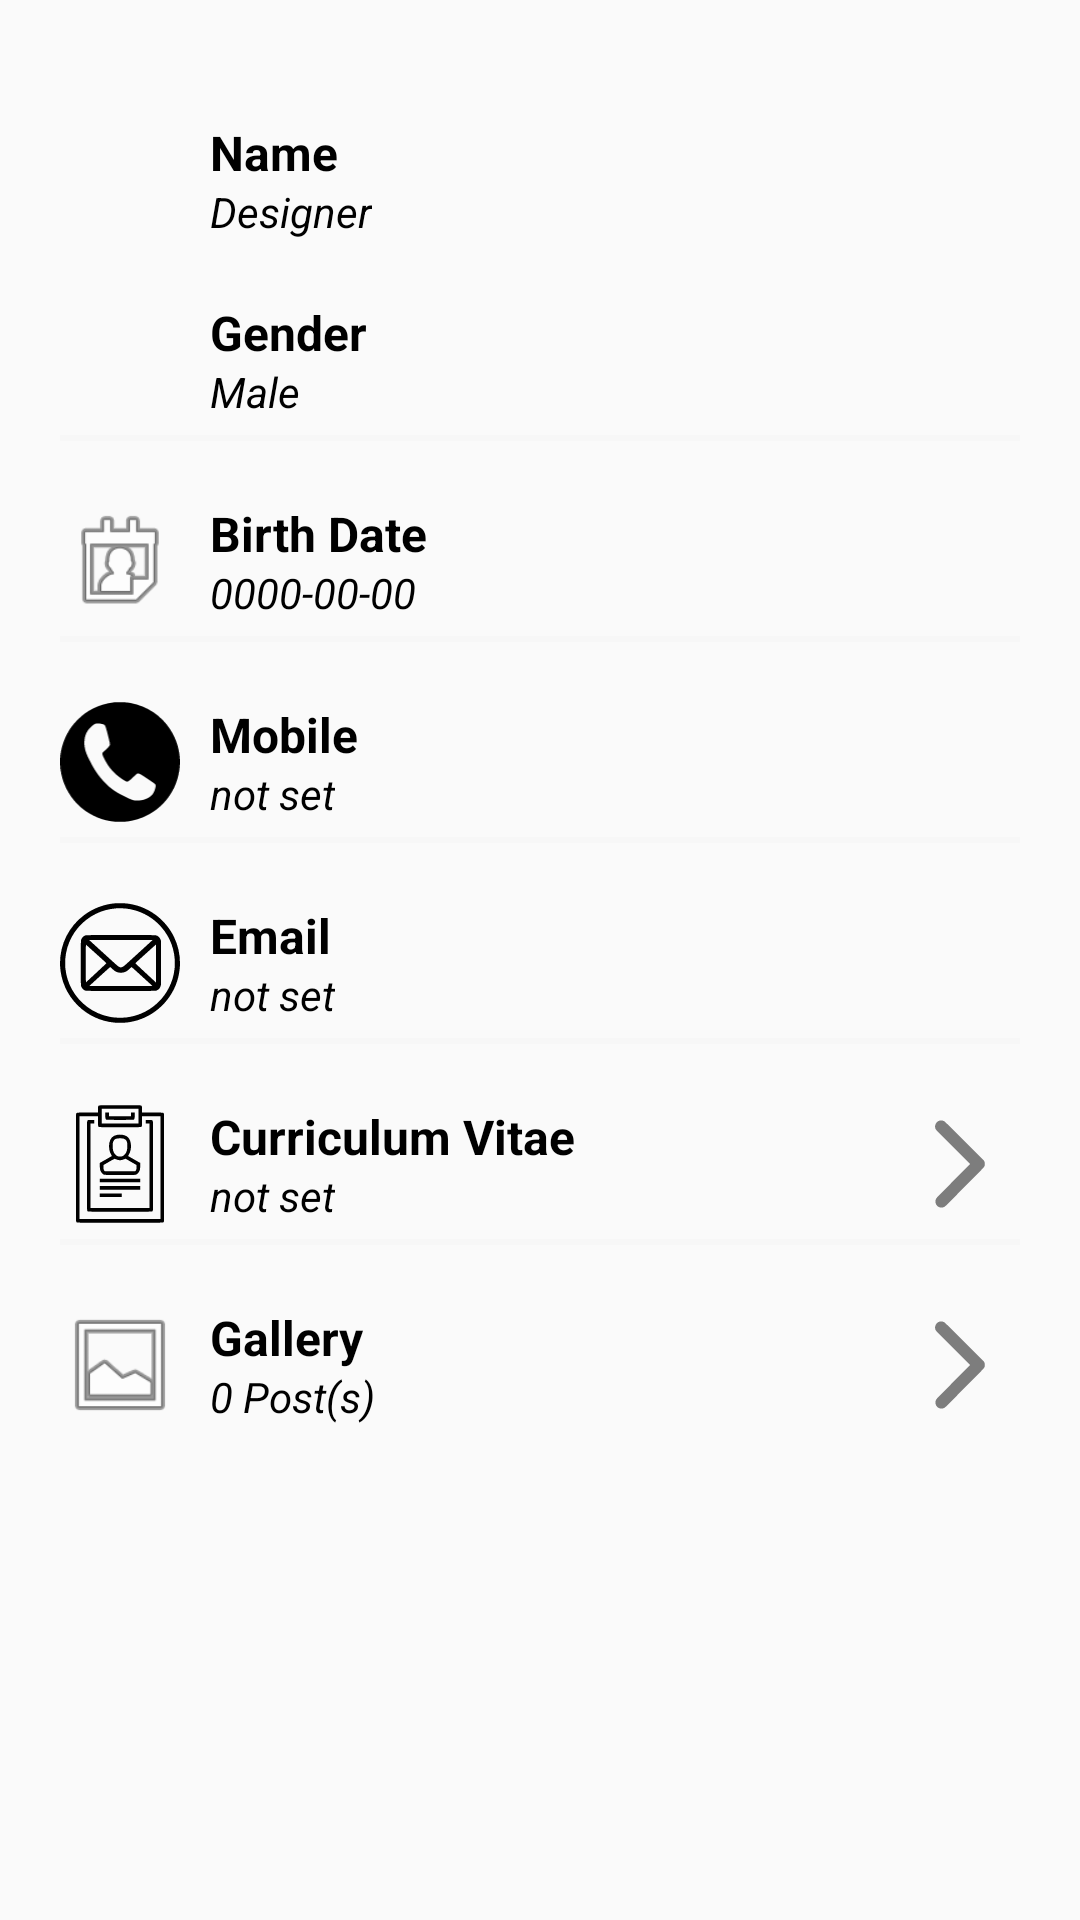

Screen size 1080 × 1920. Icon name, then its center in pixels as point (x, y):
phone: point (120, 762)
rightarrow: point (960, 1164), point (960, 1365)
